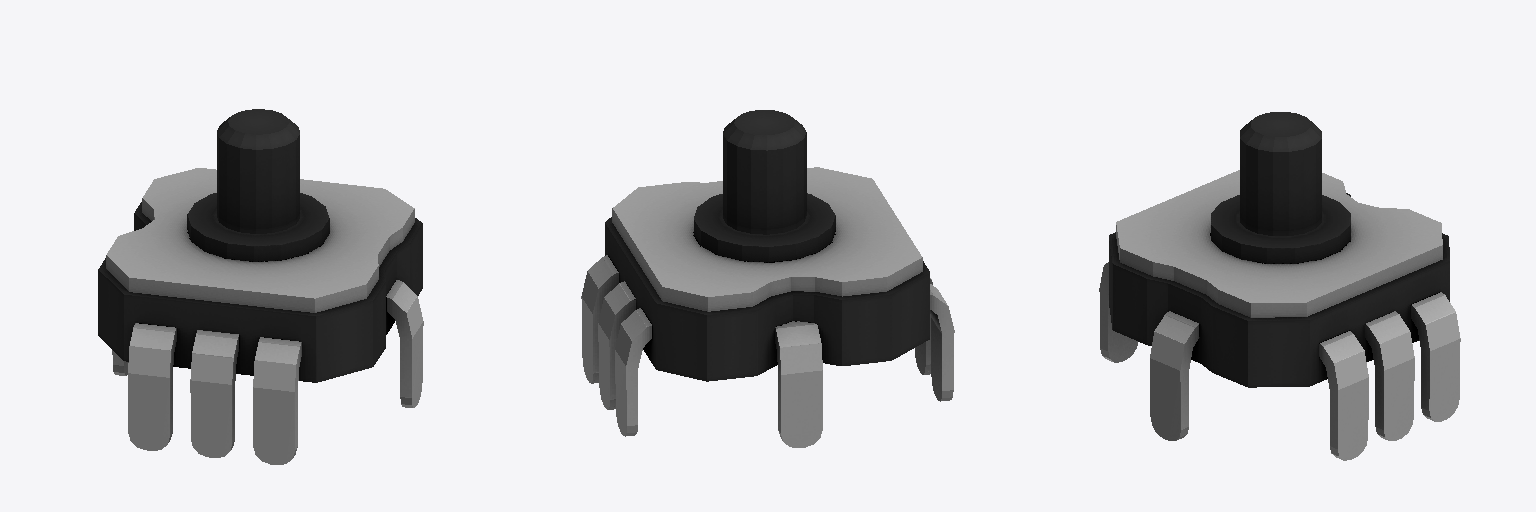
3 views of the same model, side by side, from view 1: azimuth 30°, elevation 25°; view 2: azimuth 150°, elevation 25°; view 3: azimuth 270°, elevation 25° (orthographic).
Parts seen in each view (by area): view 1: Cube.021_Cube.061; view 2: Cube.021_Cube.061; view 3: Cube.021_Cube.061.
Part boxes in pixels (x1,y1,x2,y2): Cube.021_Cube.061: (98,109,423,464); Cube.021_Cube.061: (581,110,954,447); Cube.021_Cube.061: (1099,112,1460,460).
Size of the model in its own units: 0.046 by 0.0372 by 0.0457.
Materials: 1 (1 with a texture image).